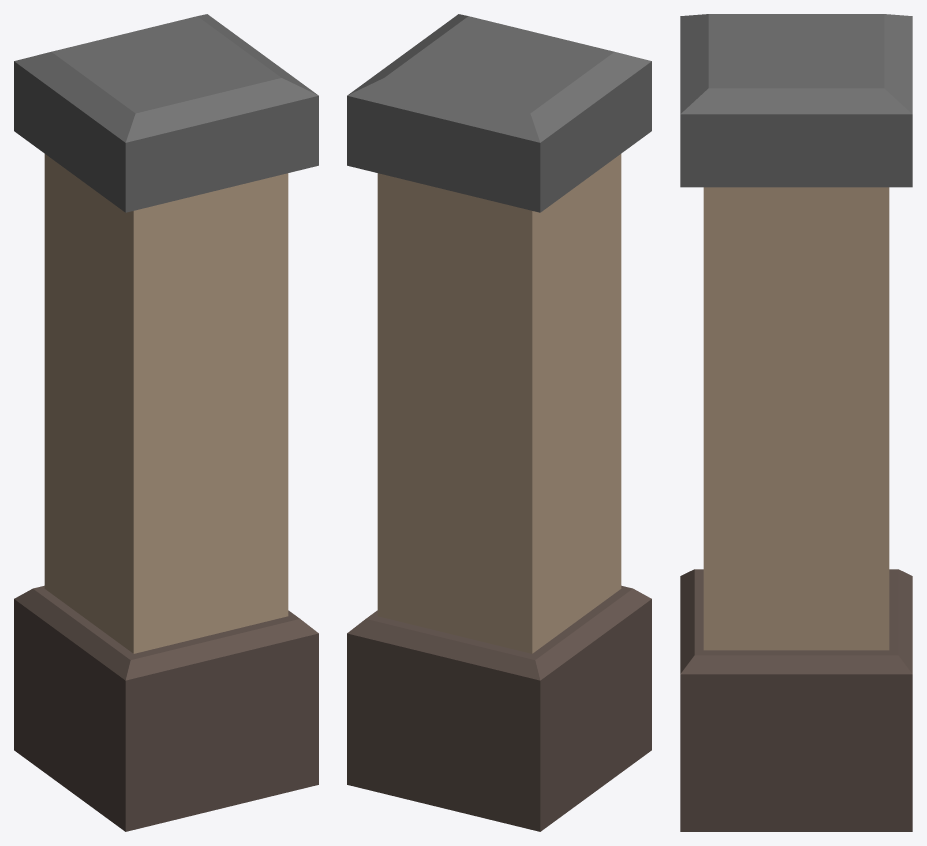
File: ruin10.fbx
3 renders of one model, left to right at view 1: azimuth 30°, elevation 25°; view 2: azimuth 150°, elevation 25°; view 3: azimuth 270°, elevation 25°, orthographic. The views are drawn at different scales.
Visible parts, largest first — view 1: RuinWallSementTwo300; view 2: RuinWallSementTwo300; view 3: RuinWallSementTwo300.
Part boxes in pixels (<box>): RuinWallSementTwo300: <box>14,14,318,831</box>; RuinWallSementTwo300: <box>347,14,651,831</box>; RuinWallSementTwo300: <box>680,14,912,831</box>.
Size of the model in its own units: 1887 by 6552 by 1887.
